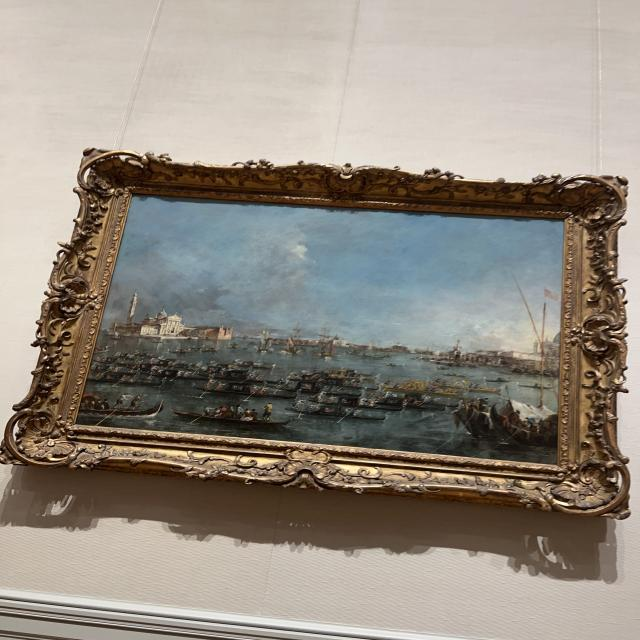ships: (75, 195, 565, 466)
